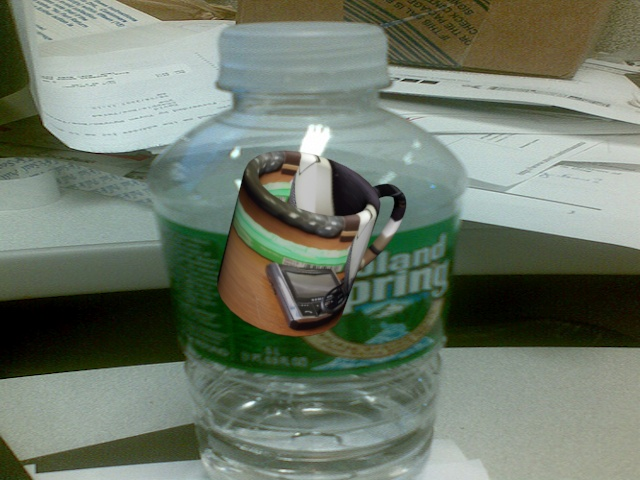mug: (208, 145, 416, 344)
